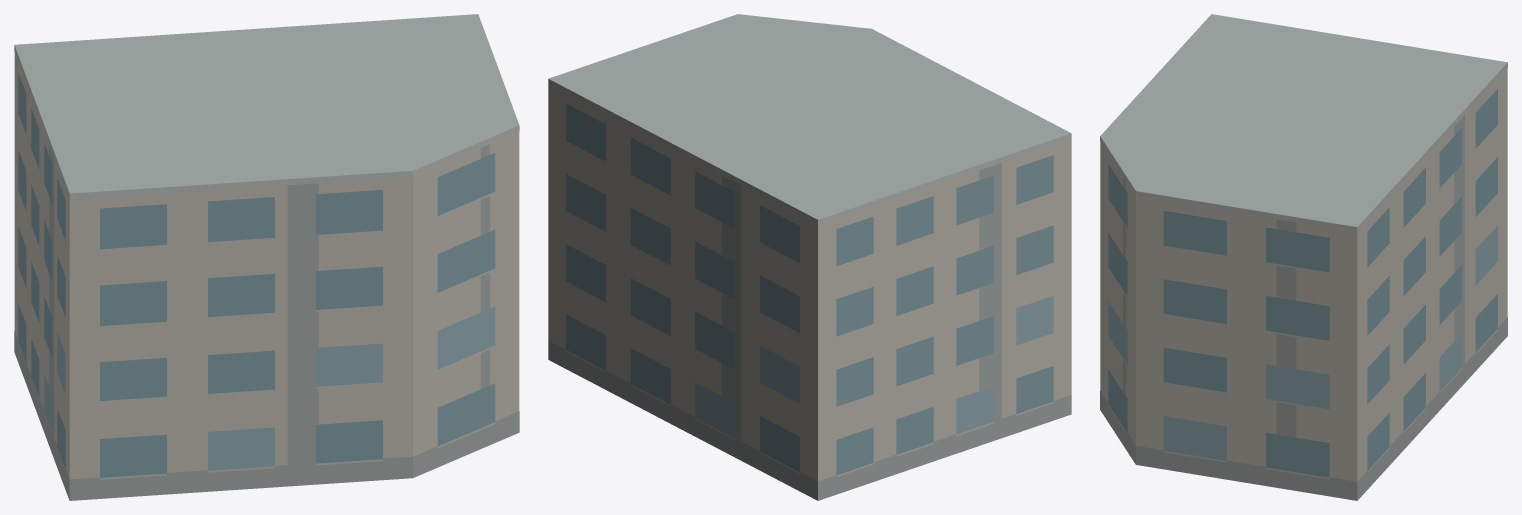
File: residential-8b117407-c304-45f4-a139-318ec6b87af9.glb
3 renders of one model, left to right at view 1: azimuth 30°, elevation 25°; view 2: azimuth 150°, elevation 25°; view 3: azimuth 270°, elevation 25°, orthographic. The views are drawn at different scales.
Visible parts, largest first — view 1: residential-8b117407-c304-45f4-a139-318ec6b87af9.tmp; view 2: residential-8b117407-c304-45f4-a139-318ec6b87af9.tmp; view 3: residential-8b117407-c304-45f4-a139-318ec6b87af9.tmp.
Part boxes in pixels (box(x1,y1,x2,y2)): residential-8b117407-c304-45f4-a139-318ec6b87af9.tmp: box(14, 14, 519, 500); residential-8b117407-c304-45f4-a139-318ec6b87af9.tmp: box(548, 14, 1071, 500); residential-8b117407-c304-45f4-a139-318ec6b87af9.tmp: box(1100, 14, 1507, 500).
Bounding box in the file's own units: 20.39 × 12.2 × 16.48.
